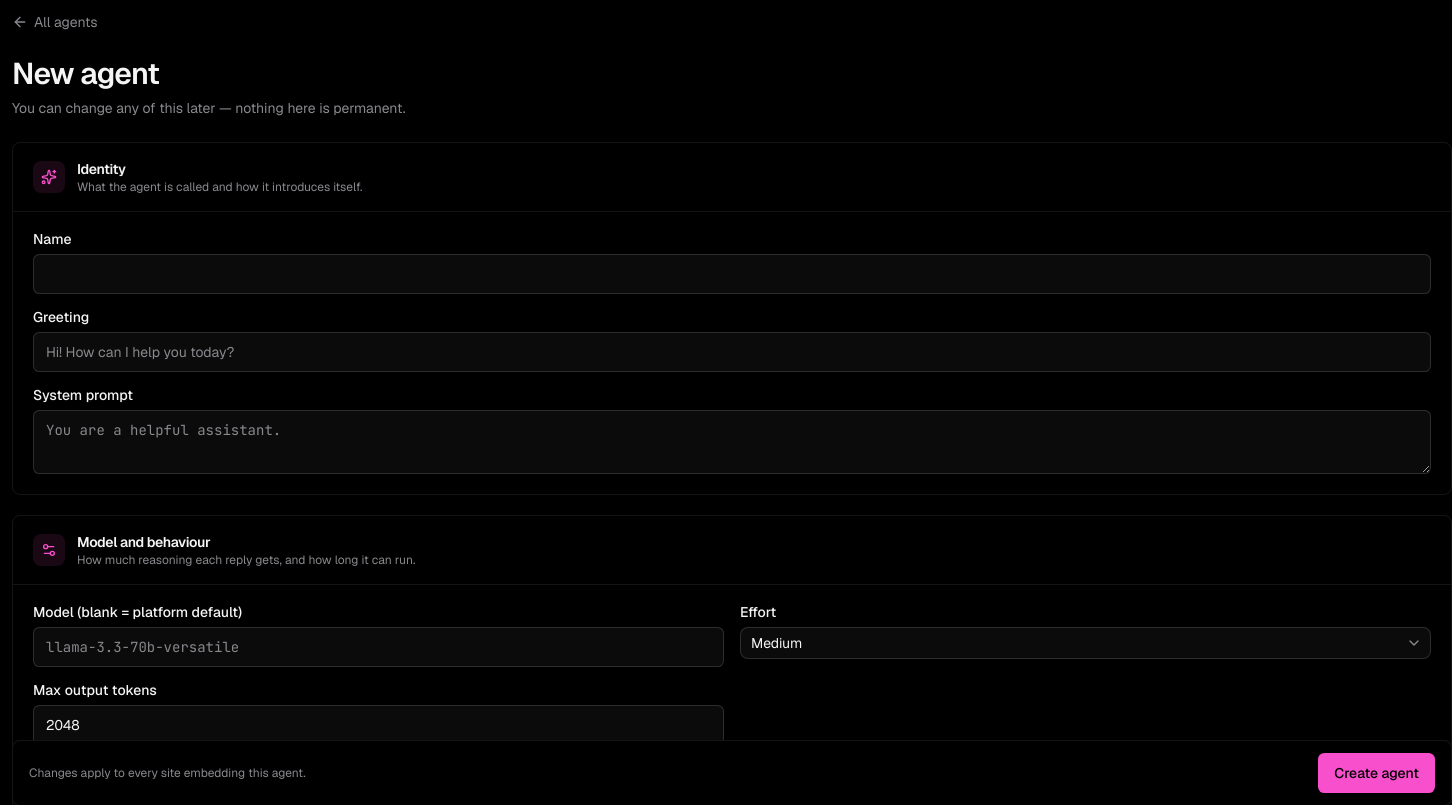
Test: NewAgentPage › requires a name before submitting
This screenshot has width=1452, height=805.
Click the button "Create agent" at [1377, 773], box [1318,753,1435,793]
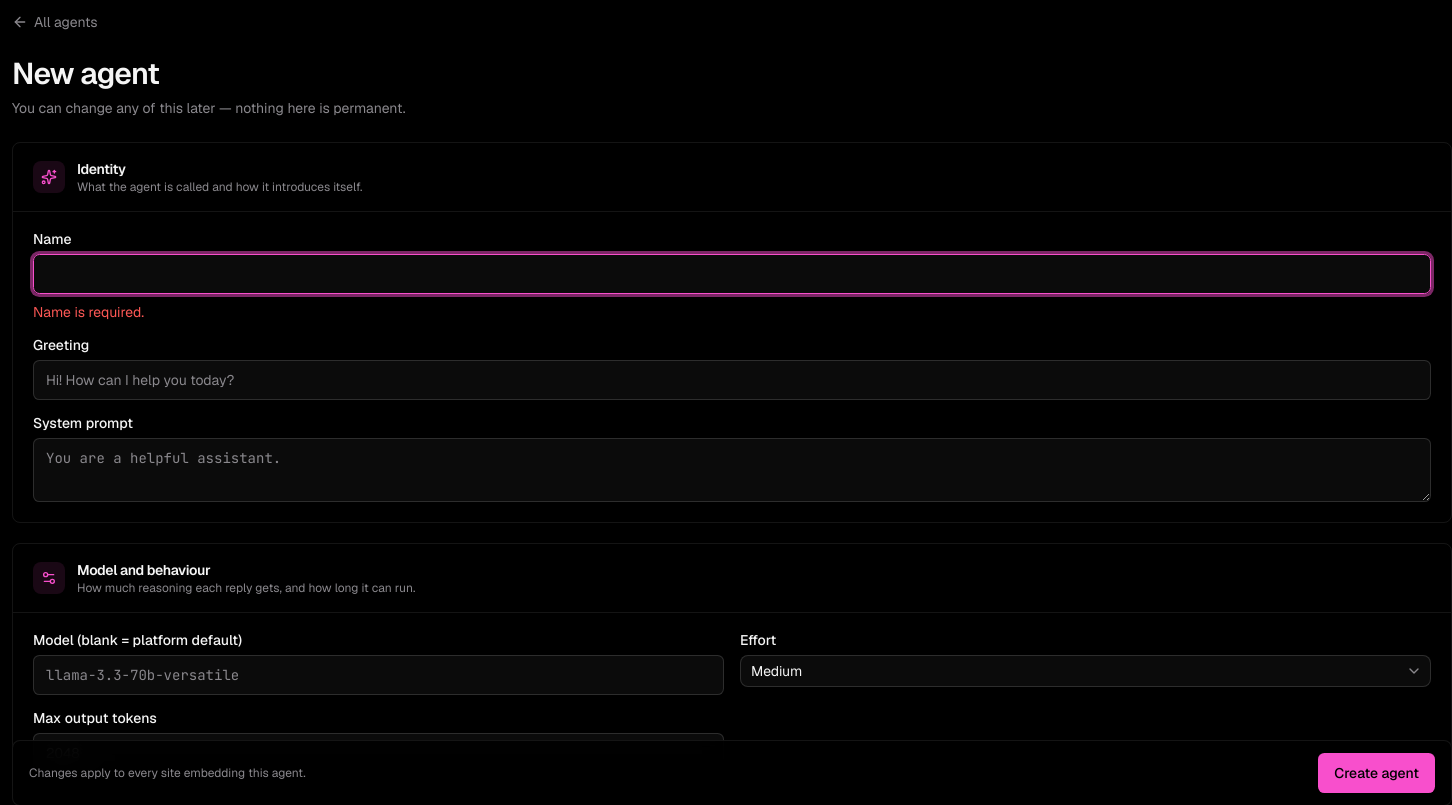
Result: the text "Name is required." is shown at [33,303,144,321]
